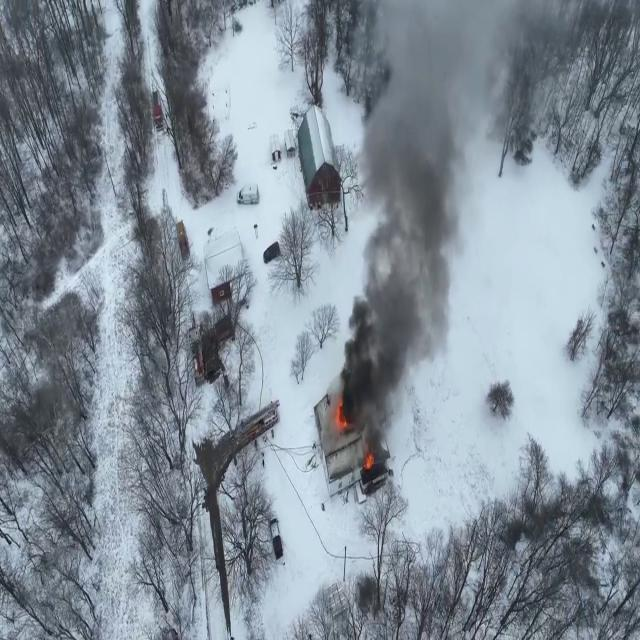Smoke: (334, 0, 638, 439), (336, 0, 507, 432)
